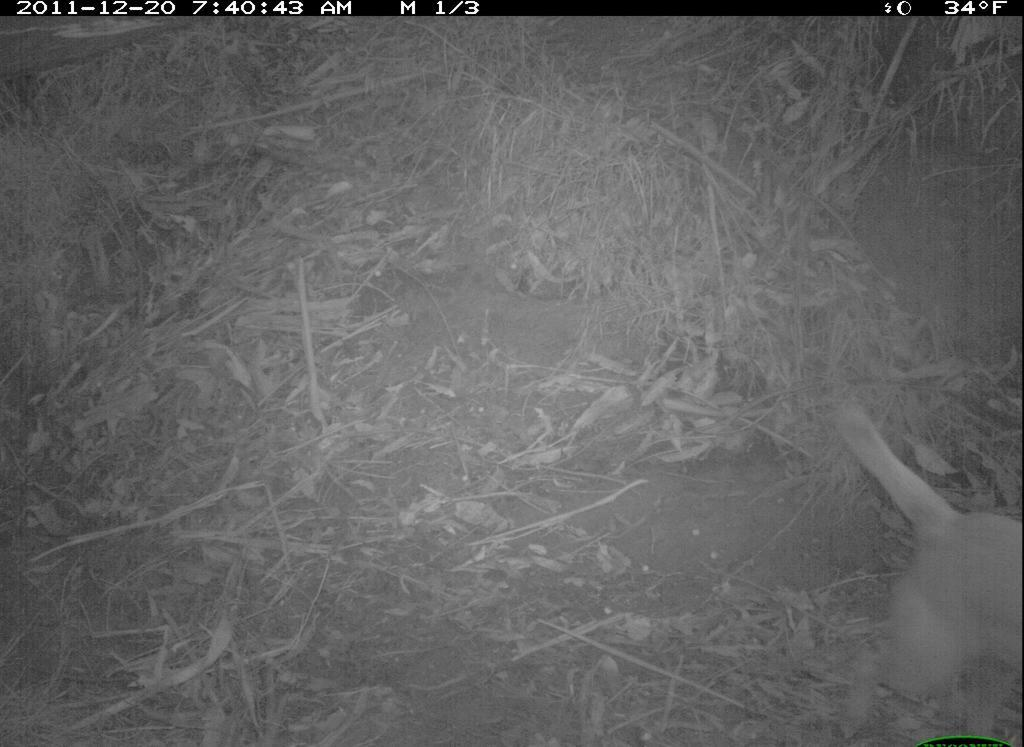dog: (817, 379, 1023, 719)
